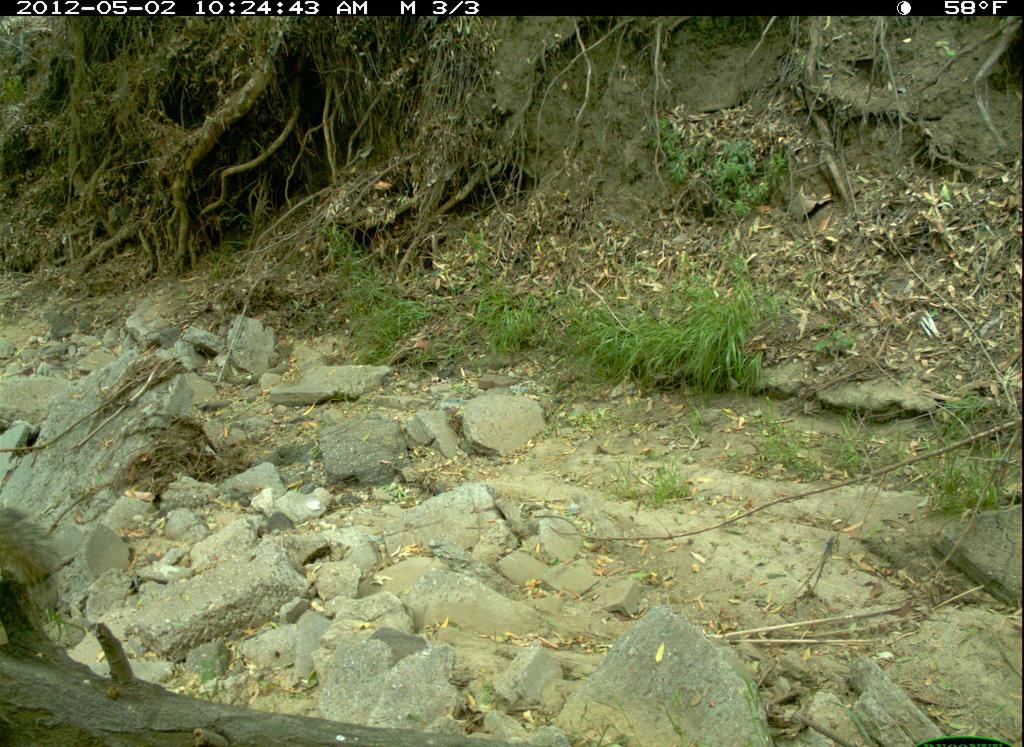squirrel: (1, 493, 72, 634)
